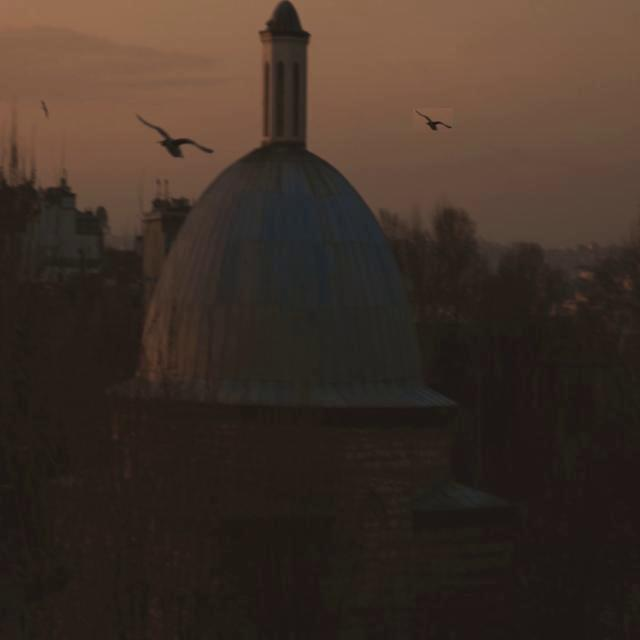bird: (132, 112, 218, 166), (412, 103, 458, 138), (34, 96, 56, 122)
